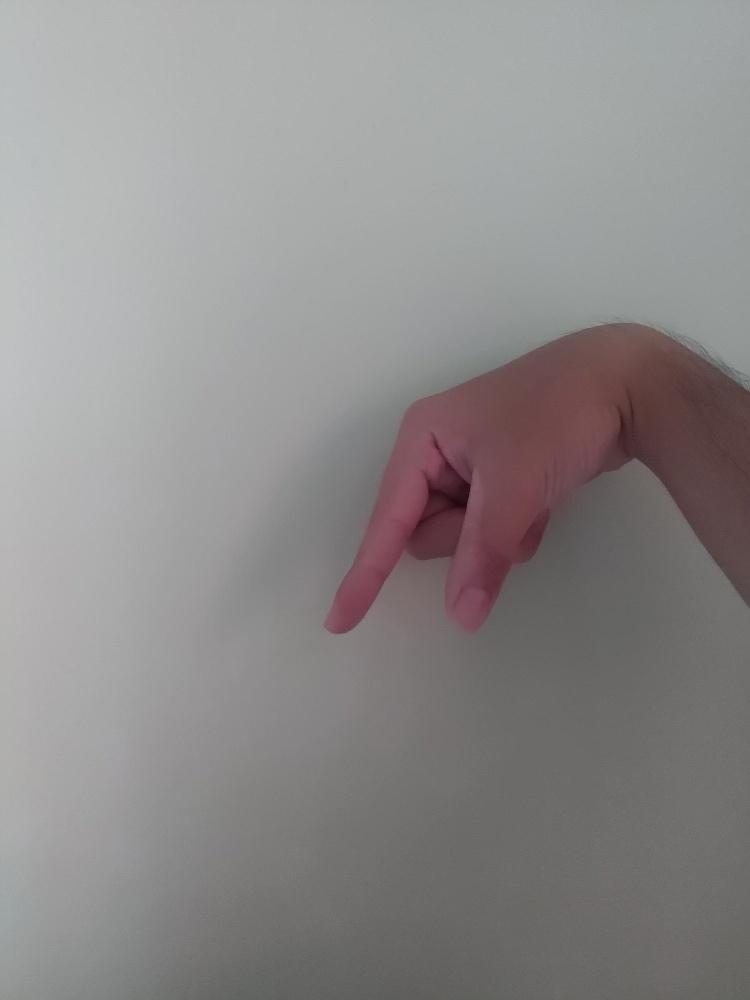q: (319, 316, 638, 635)
